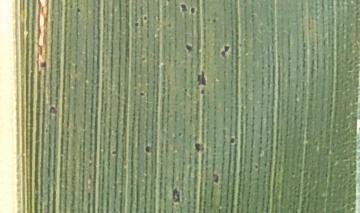tarspot: (168, 184, 184, 205), (193, 68, 208, 88), (192, 139, 207, 154), (209, 172, 222, 187), (37, 57, 50, 71), (218, 43, 230, 58), (177, 1, 189, 16), (46, 104, 60, 116), (183, 40, 194, 54), (136, 89, 148, 100), (188, 4, 198, 17), (143, 142, 153, 154), (227, 136, 239, 146), (132, 20, 141, 29), (73, 6, 82, 14)
